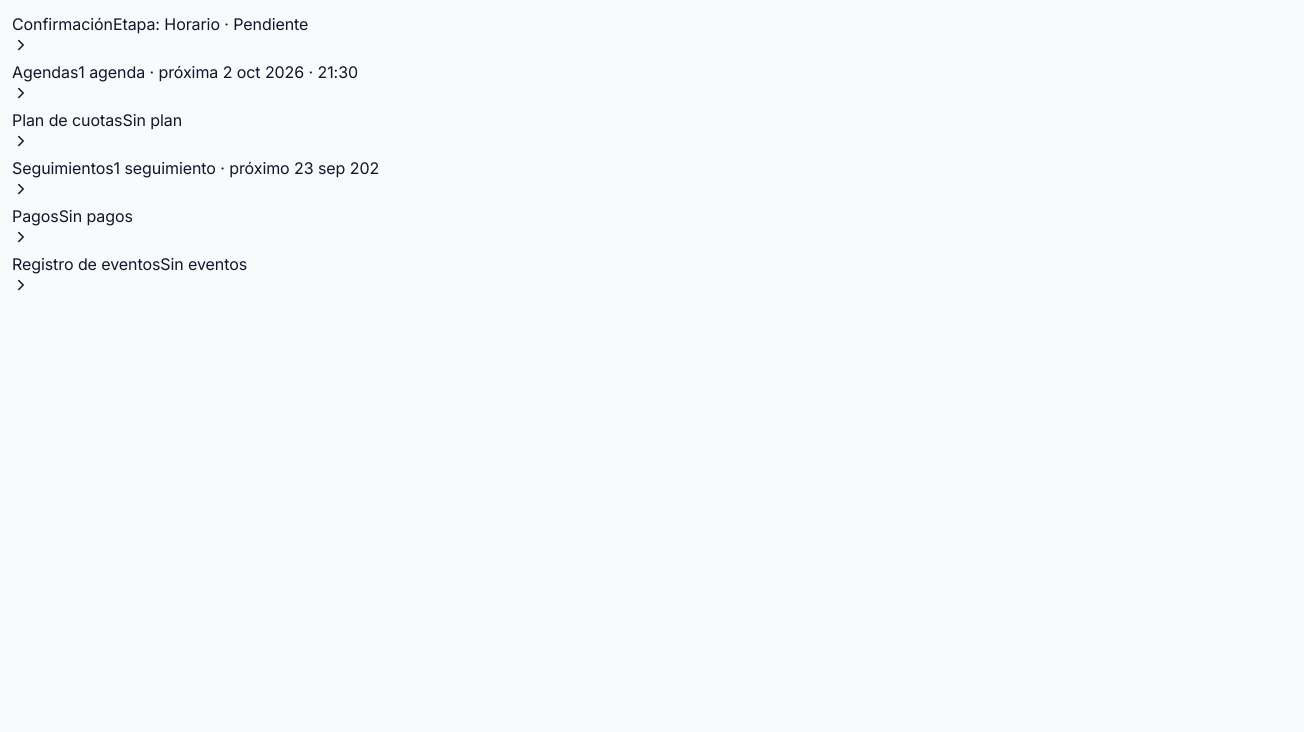
Test: corregir una agenda en la fila › el lápiz abre el editor con lo que la agenda tiene hoy, en hora local
The width and height of the screenshot is (1304, 732).
Click the button "Agendas1 agenda · próxima 2 oct 2026 · 21:30" at (185, 81), box [12,60,358,102]
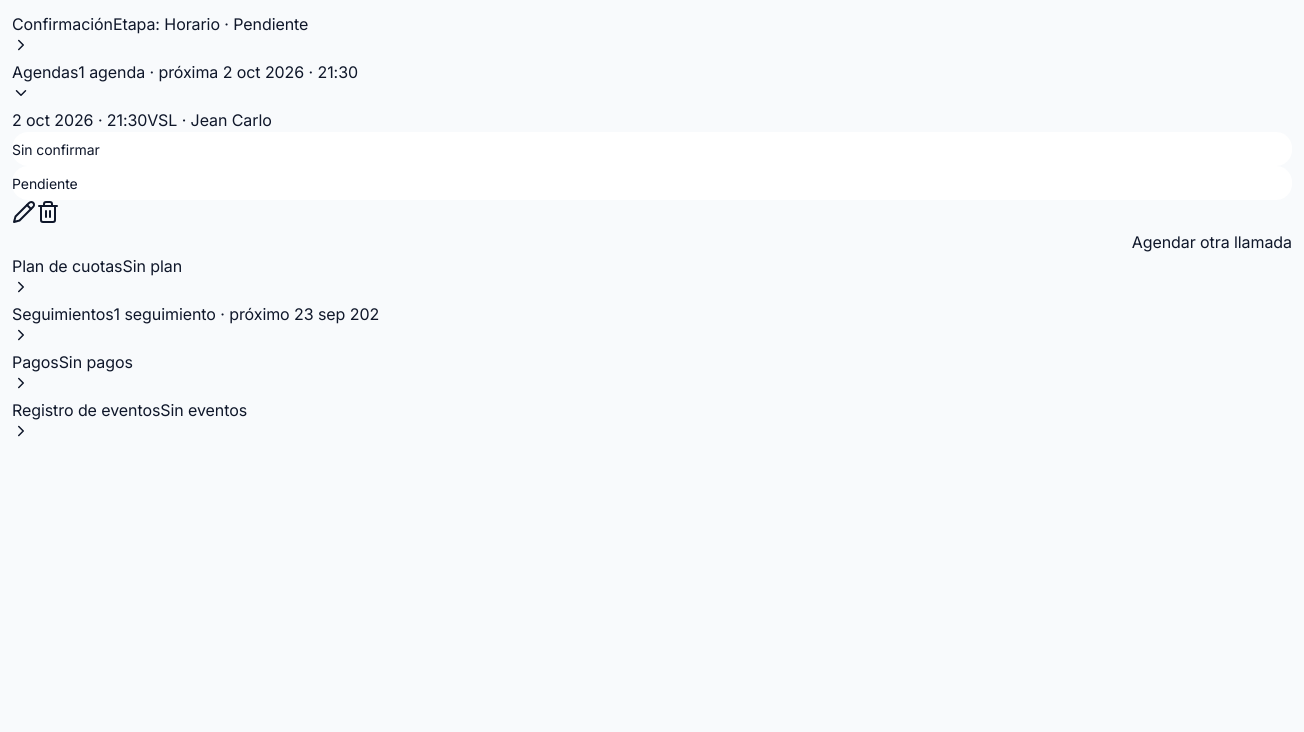
Click the button named "Corregir fecha, fuente y closer" at (24, 212), box [12,200,36,224]
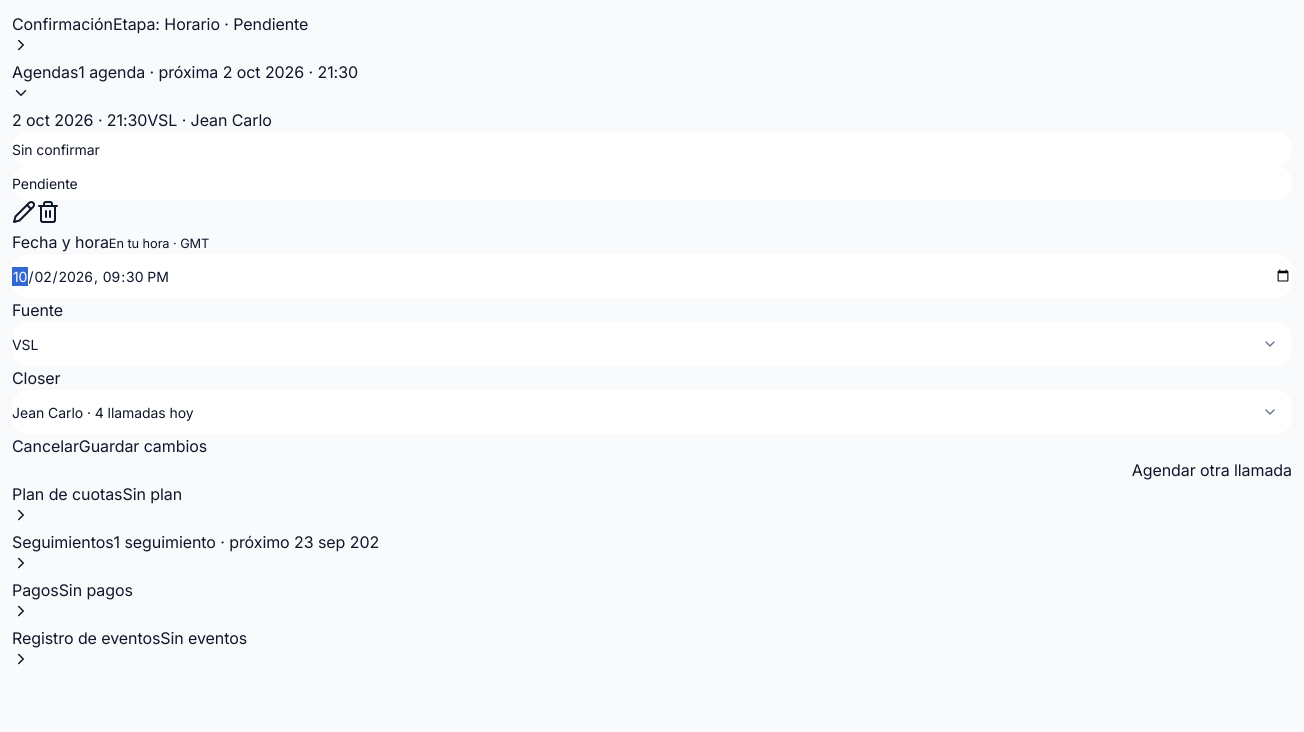
Result: the field labelled "Fecha y hora" holds "2026-10-02T21:30" at [12,254,1292,298]
Result: the dropdown named "Fuente de la agenda" shows "VSL" at [12,322,1292,366]
Result: the dropdown named "Closer de la agenda" shows "Jean Carlo · 4 llamadas hoy" at [12,390,1292,434]
